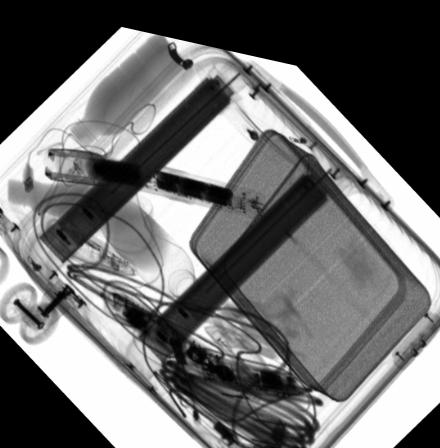Baton: (43, 146, 268, 208)
